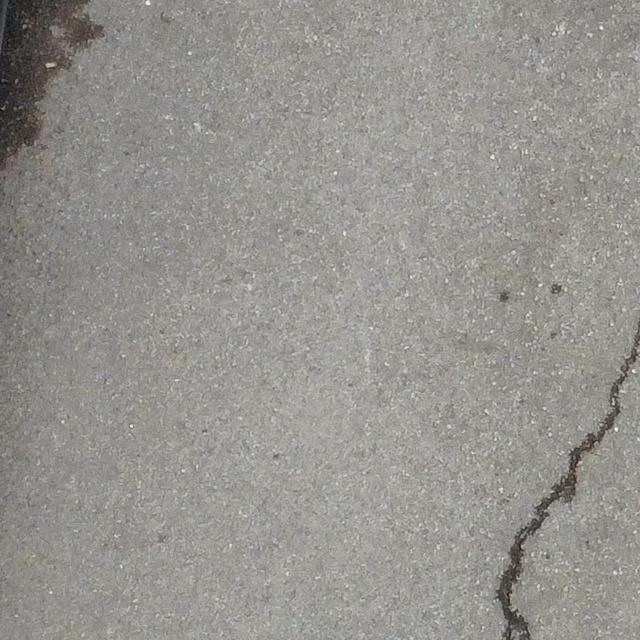LongitudinalCrack: (495, 318, 640, 639)
